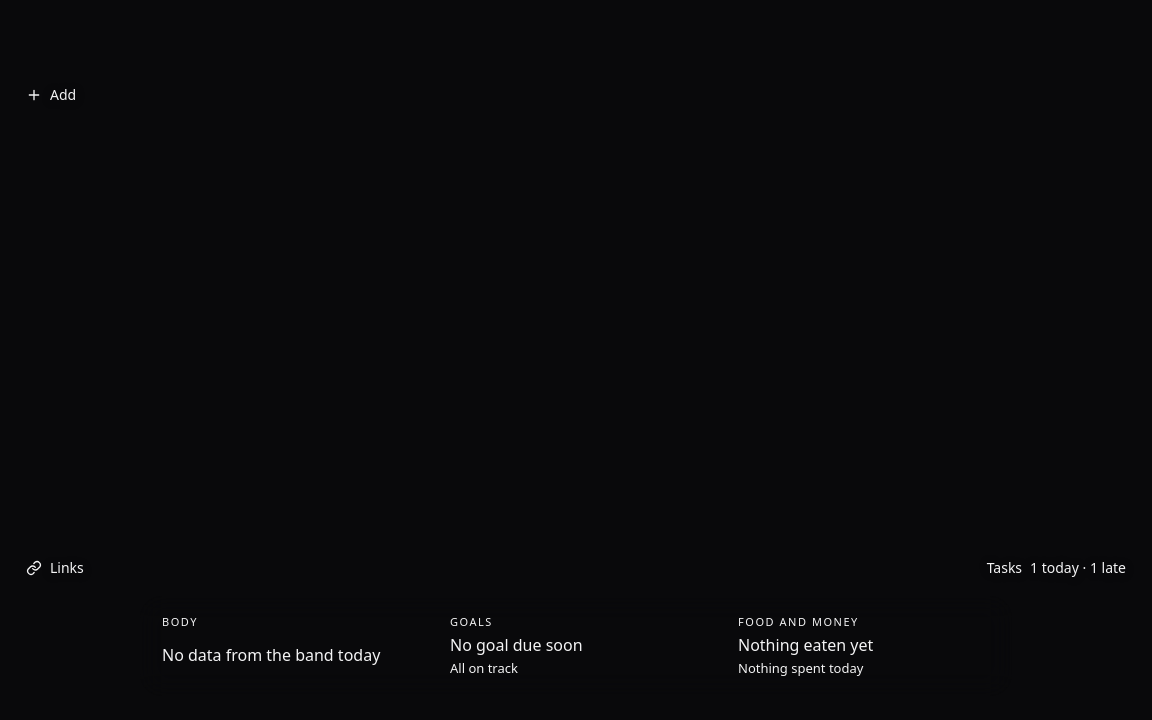
it: the corners › open one panel at a time and give the focus back on Escape
The image size is (1152, 720).
Click the button "Body No data from the band today" at (288, 646), box [146,602,430,690]
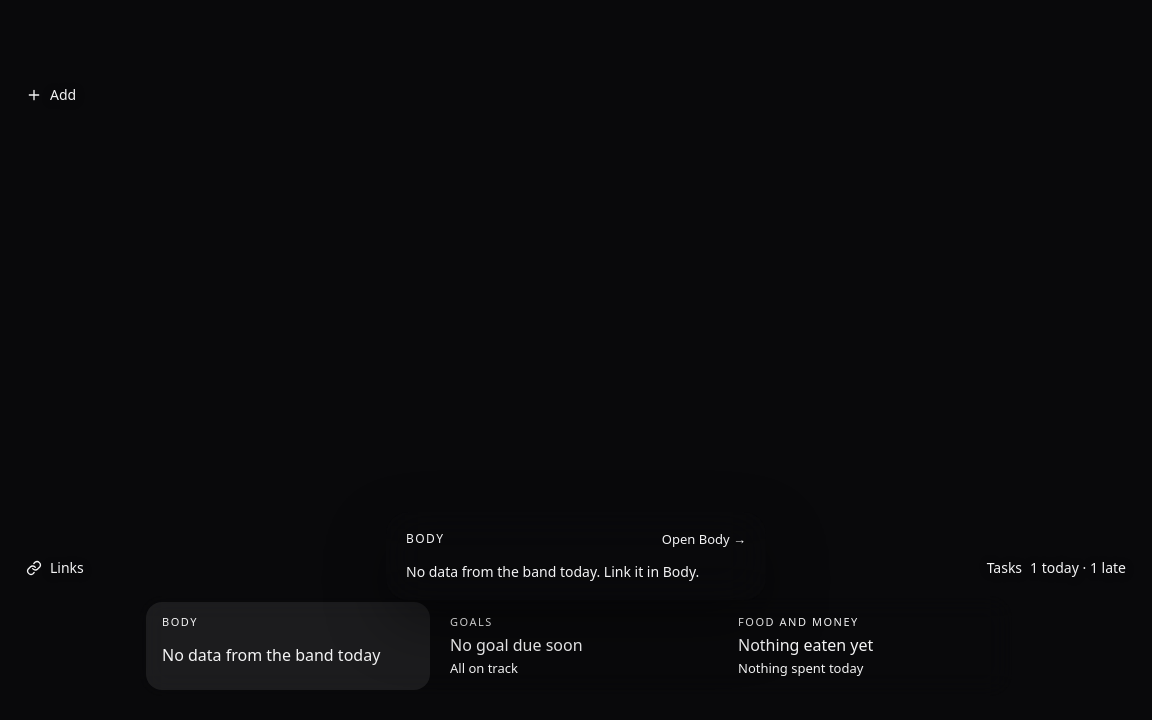
Expected: the dialog "Body" is shown, [386,512,766,600]
Click the button "Add" at (51, 94), box [16,76,86,113]
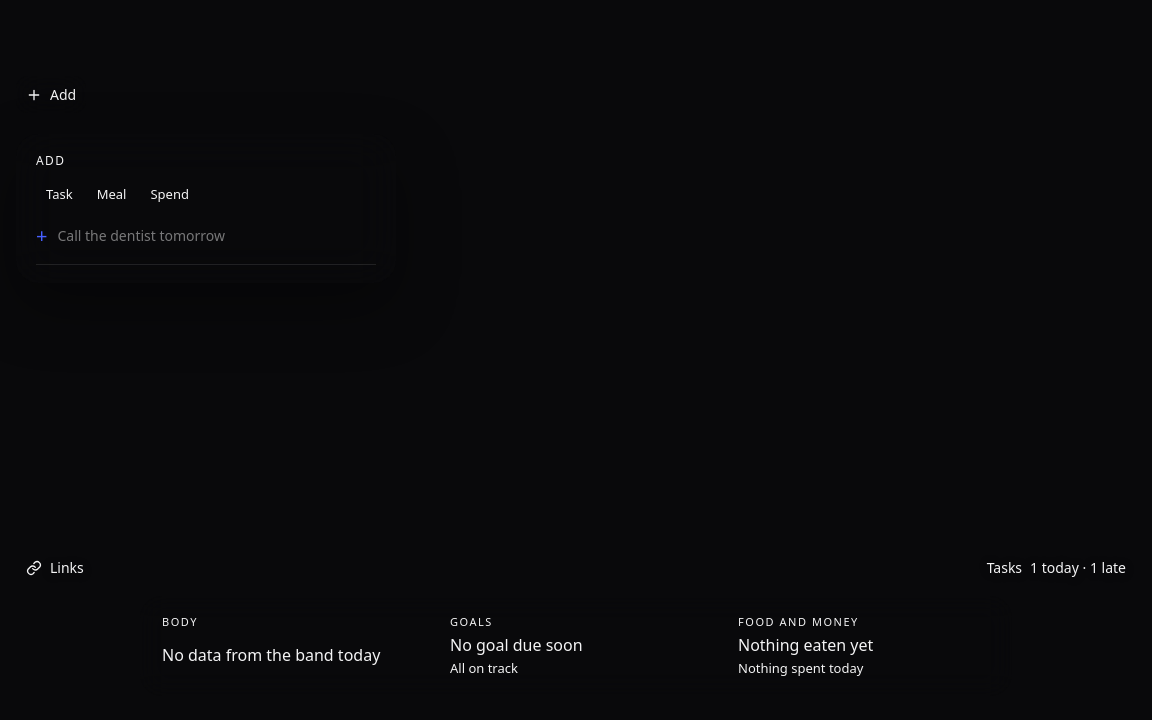
Expected: the number of dialogs is 1, [16,134,396,282]
Press Escape
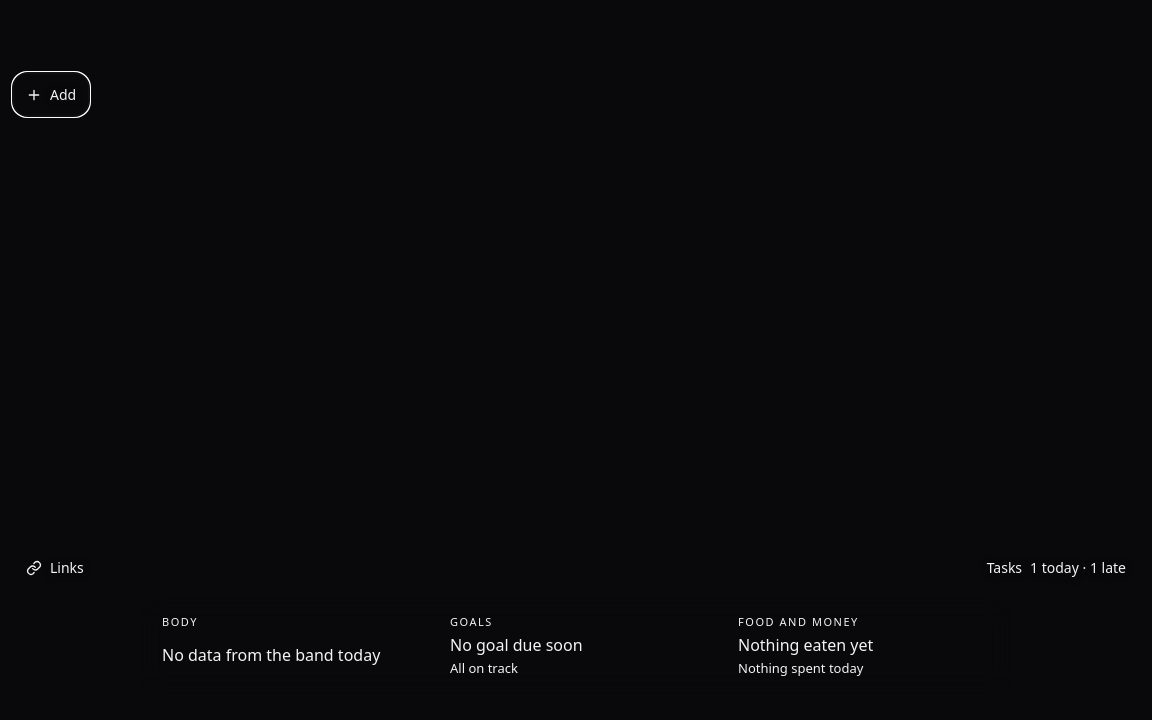
Expected: the dialog is gone
